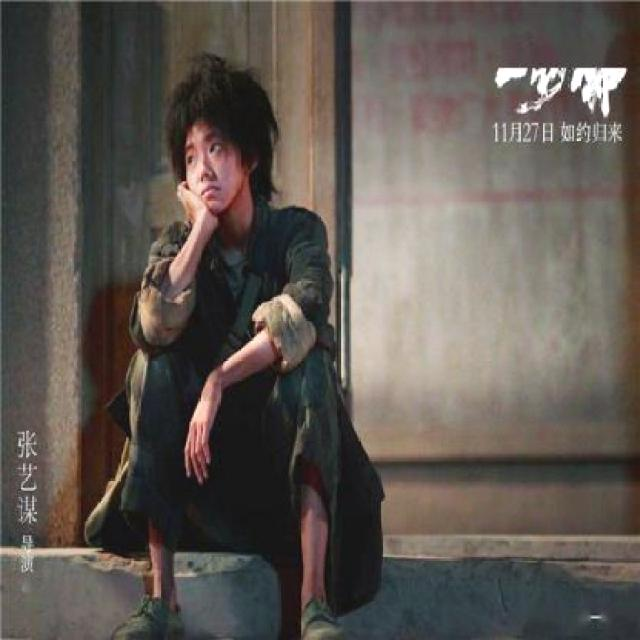face_nomask: (180, 129, 254, 203)
hand_noglove: (183, 374, 222, 488), (177, 180, 217, 235)
head_nohelmet: (157, 64, 265, 134)
person: (115, 54, 368, 640)
